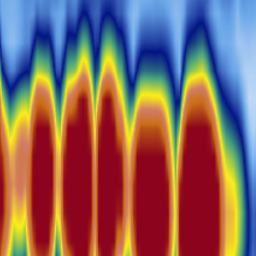defect: (180, 1, 246, 256), (14, 13, 59, 256), (131, 33, 176, 256), (63, 1, 98, 256), (97, 4, 128, 256), (1, 30, 12, 256)
